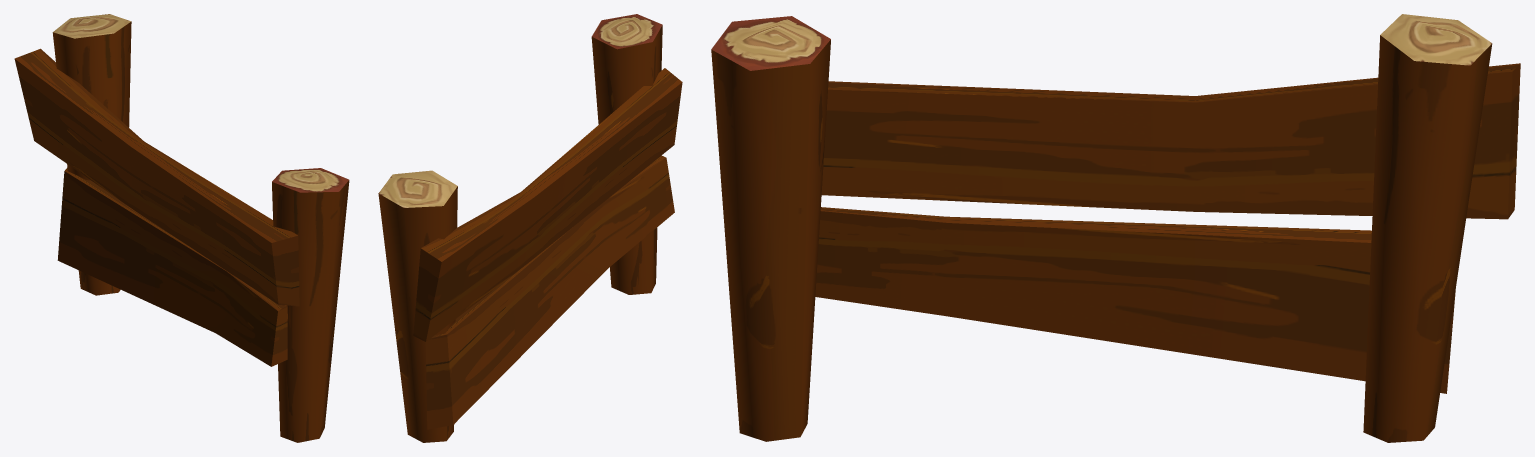
The model's file is Cerca_03.fbx.
3 views of the same model, side by side, from view 1: azimuth 30°, elevation 25°; view 2: azimuth 150°, elevation 25°; view 3: azimuth 270°, elevation 25° (orthographic). The views are drawn at different scales.
Visible parts, largest first — view 1: Cerca_03; view 2: Cerca_03; view 3: Cerca_03.
Boxes of the visible parts, left/top/right/bottom form: Cerca_03: left=14, top=14, right=349, bottom=442; Cerca_03: left=378, top=14, right=682, bottom=442; Cerca_03: left=711, top=14, right=1520, bottom=442.
Bounding box in the file's own units: 41.86 × 117 × 213.
